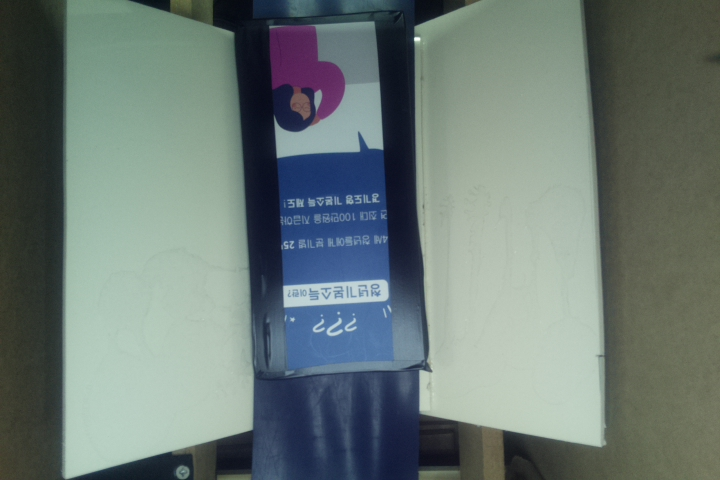book: (244, 6, 429, 383)
